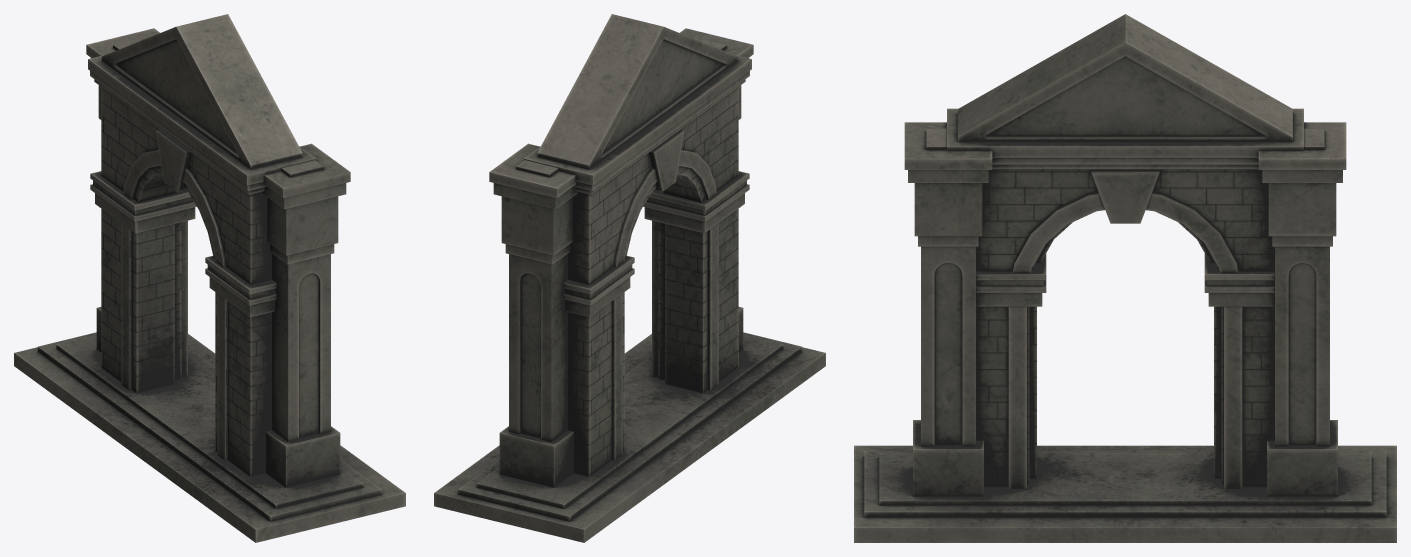
The model's file is SM_Arc.fbx.
3 views of the same model, side by side, from view 1: azimuth 30°, elevation 25°; view 2: azimuth 150°, elevation 25°; view 3: azimuth 270°, elevation 25° (orthographic). The views are drawn at different scales.
Parts seen in each view (by area): view 1: SM_Arc; view 2: SM_Arc; view 3: SM_Arc.
Boxes of the visible parts, <box> form: SM_Arc: <box>14,14,405,542</box>; SM_Arc: <box>434,14,825,542</box>; SM_Arc: <box>854,14,1396,542</box>.
Size of the model in its own units: 197 by 550 by 525.
